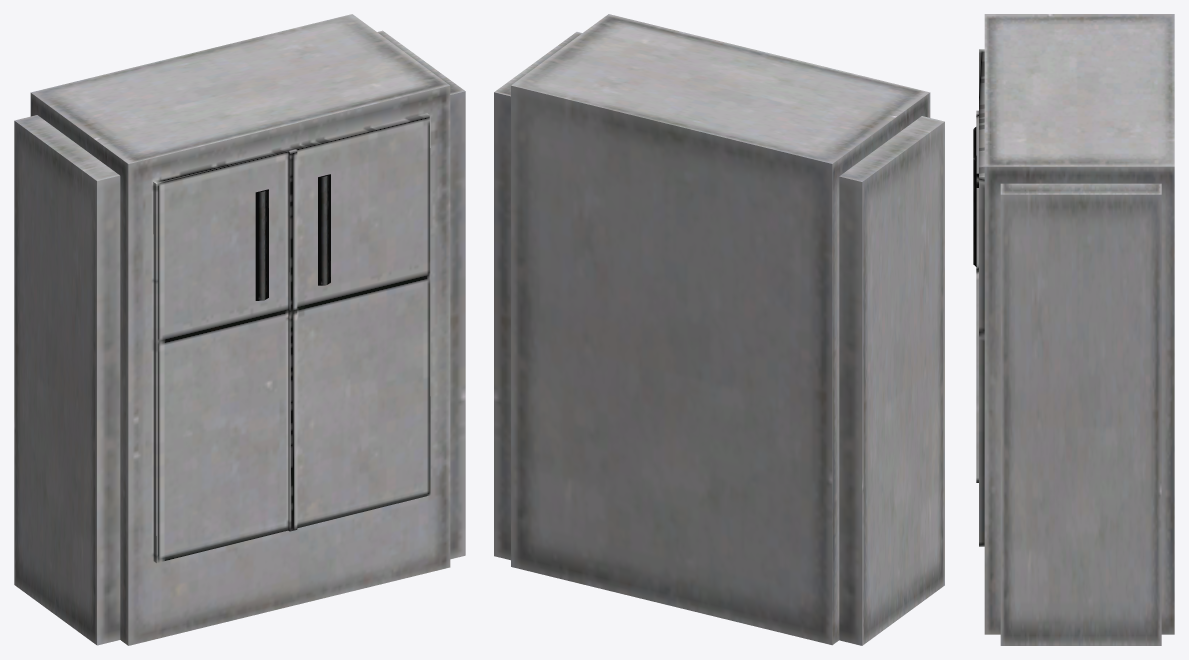
Rendered from frn_all_plan_cabinet_s01_l0.fbx.
The picture shows the model from 3 angles, left to right: view 1: azimuth 30°, elevation 25°; view 2: azimuth 150°, elevation 25°; view 3: azimuth 270°, elevation 25°; orthographic projection. The views are drawn at different scales.
Visible parts, largest first — view 1: mesh_node; view 2: mesh_node; view 3: mesh_node.
Boxes of the visible parts, <box> form: mesh_node: <box>14,14,465,645</box>; mesh_node: <box>494,14,944,645</box>; mesh_node: <box>973,14,1174,645</box>.
Size of the model in its own units: 1.44 by 1.8 by 0.7029.
1 material, 1 textured.
